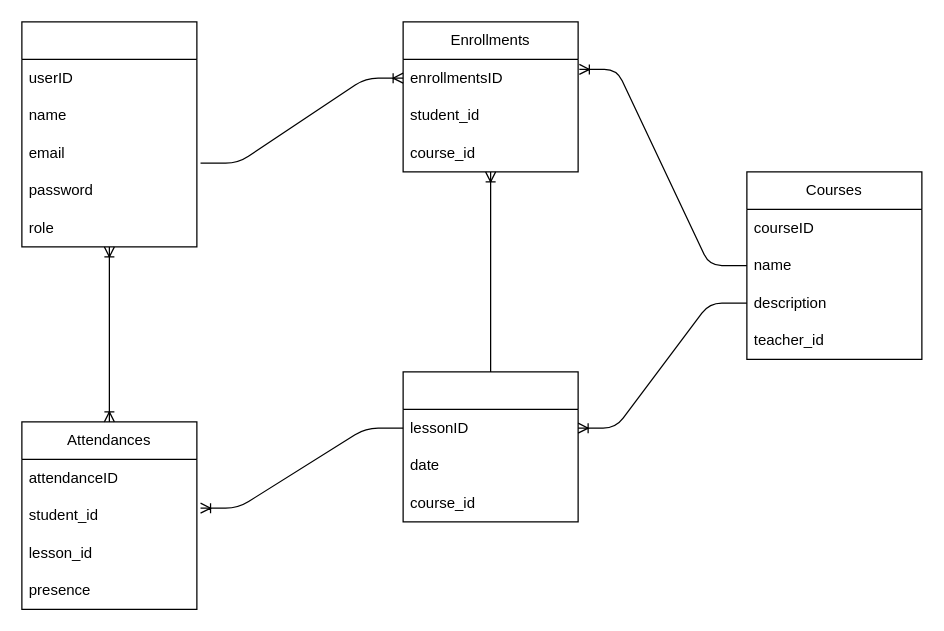
Image size: 944x631. Some labels were removed from this diagram. The box of each missing label's shape, as (x1, y1, x2, y2) in pixels:
Lessons: (402, 371, 578, 522)
Users: (21, 21, 197, 247)
